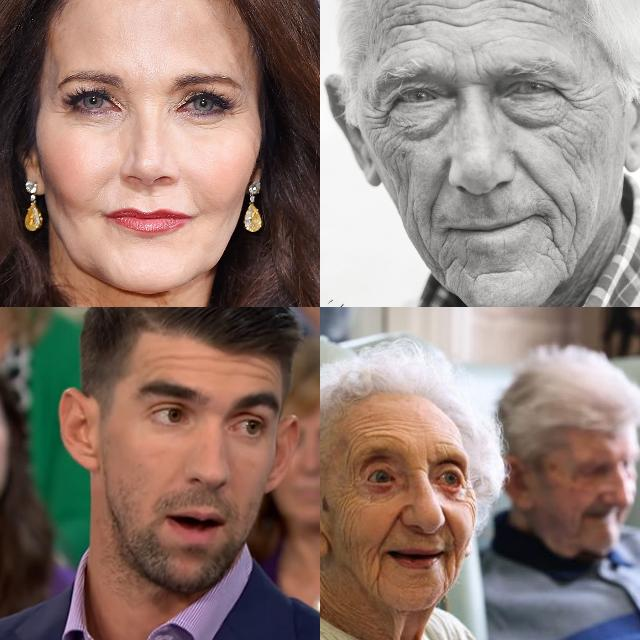chin: (474, 262, 518, 282), (444, 252, 464, 272)
crows_feet: (360, 99, 390, 139), (556, 87, 594, 111), (228, 98, 252, 119), (51, 102, 74, 118), (344, 471, 360, 489)
forehead: (378, 2, 432, 44), (439, 0, 497, 32), (508, 0, 562, 34), (151, 348, 209, 374), (235, 358, 278, 382), (430, 434, 460, 456), (355, 420, 387, 440), (390, 428, 410, 450)
frown_line: (464, 48, 488, 78), (413, 461, 431, 475)
gummy_smile: (517, 156, 551, 194), (378, 507, 400, 545), (426, 185, 444, 231), (439, 510, 457, 546)
masseter: (392, 158, 422, 220), (553, 132, 587, 176), (412, 228, 438, 266), (339, 500, 359, 544), (568, 190, 582, 250), (465, 494, 479, 520)
sad_smile: (538, 218, 564, 266), (373, 559, 385, 587)
